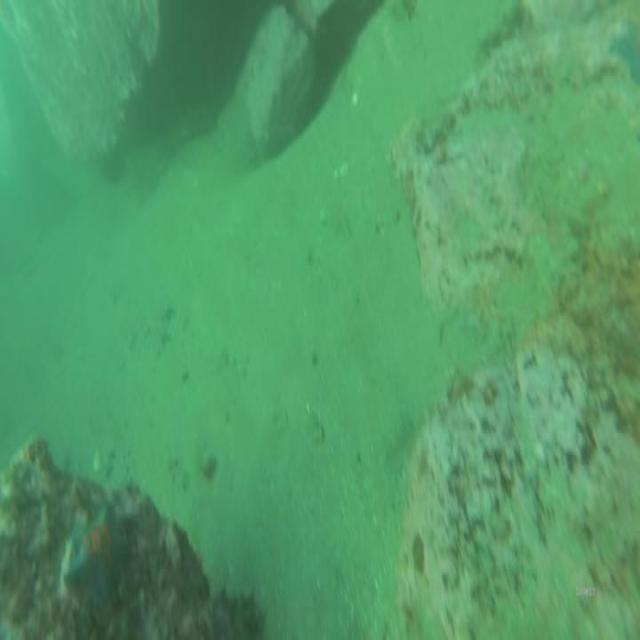starfish: (63, 503, 133, 613)
